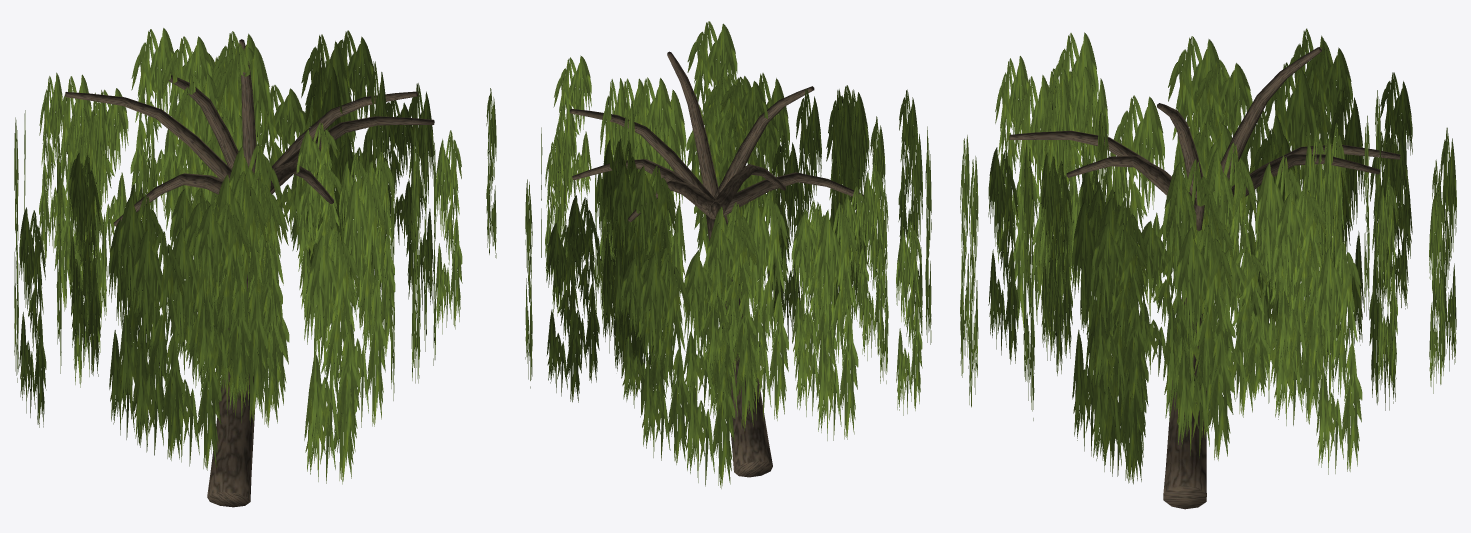
Rendered from willow_tree.glb.
3 renders of one model, left to right at view 1: azimuth 30°, elevation 25°; view 2: azimuth 150°, elevation 25°; view 3: azimuth 270°, elevation 25°, orthographic. The views are drawn at different scales.
Visible parts, largest first — view 1: WillowLeaves, WillowTrunk; view 2: WillowLeaves, WillowTrunk; view 3: WillowLeaves, WillowTrunk.
Part boxes in pixels (left/top/right/bottom): WillowLeaves: left=14, top=28, right=496, bottom=484; WillowTrunk: left=65, top=39, right=434, bottom=507; WillowLeaves: left=525, top=21, right=931, bottom=488; WillowTrunk: left=570, top=51, right=863, bottom=477; WillowLeaves: left=960, top=28, right=1456, bottom=484; WillowTrunk: left=1009, top=47, right=1400, bottom=509.
Size of what is drawn, in the model's own units: 7.83 by 7.24 by 7.62.
Materials: 2 (2 with a texture image).
